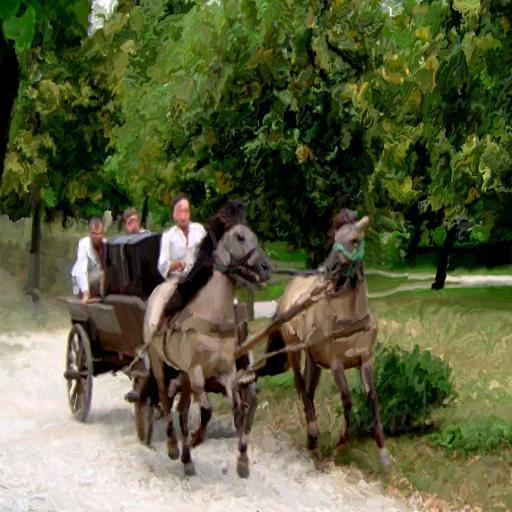horse: (142, 212, 272, 478), (273, 210, 394, 468)
